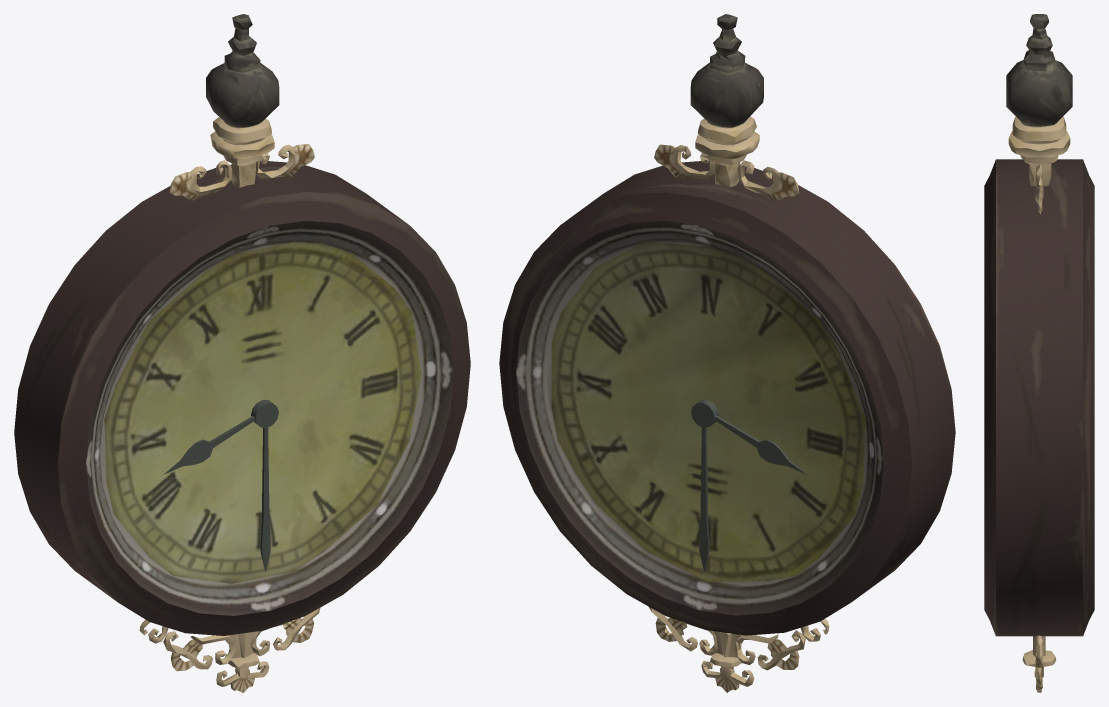
File: WallClock_01_A.fbx
3 renders of one model, left to right at view 1: azimuth 30°, elevation 25°; view 2: azimuth 150°, elevation 25°; view 3: azimuth 270°, elevation 25°, orthographic.
Parts seen in each view (by area): view 1: WallClock_01_A; view 2: WallClock_01_A; view 3: WallClock_01_A.
Part boxes in pixels (x1=…): WallClock_01_A: x1=14, y1=14, x2=470, y2=692; WallClock_01_A: x1=499, y1=14, x2=955, y2=692; WallClock_01_A: x1=984, y1=14, x2=1094, y2=692.
Size of the model in its own units: 46.26 by 72.39 by 10.66.
1 material, 1 textured.
